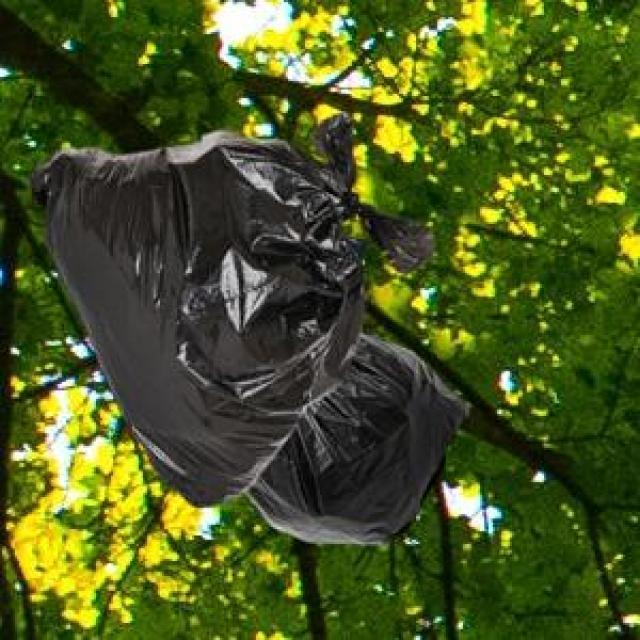waste: (36, 116, 468, 544)
